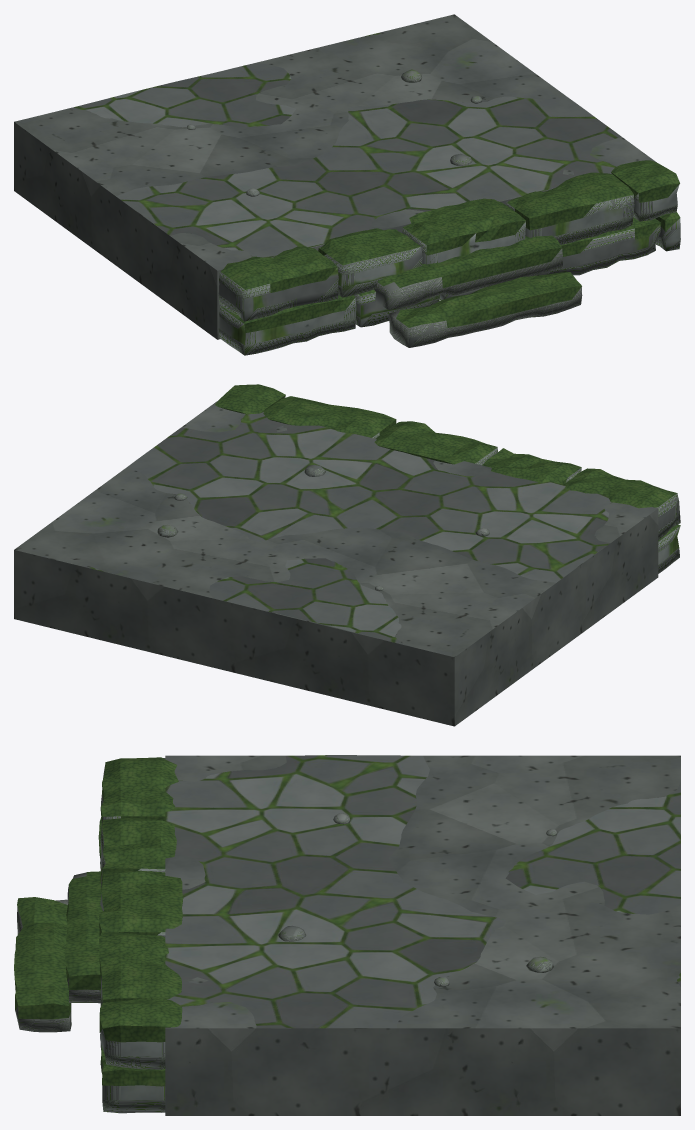
File: mod_floor_ledge_step.glb
3 renders of one model, top to bottom at view 1: azimuth 30°, elevation 25°; view 2: azimuth 150°, elevation 25°; view 3: azimuth 270°, elevation 25°, orthographic. The views are drawn at different scales.
Parts seen in each view (by area): view 1: mod_floor_ledge_step__stone_dark, mod_floor_ledge_step__stone_floor, mod_floor_ledge_step__moss, mod_floor_ledge_step__stone_wall, mod_floor_ledge_step__stone_block; view 2: mod_floor_ledge_step__stone_dark, mod_floor_ledge_step__stone_floor, mod_floor_ledge_step__moss, mod_floor_ledge_step__stone_wall, mod_floor_ledge_step__stone_block; view 3: mod_floor_ledge_step__stone_dark, mod_floor_ledge_step__stone_floor, mod_floor_ledge_step__moss, mod_floor_ledge_step__stone_wall, mod_floor_ledge_step__stone_block.
Part boxes in pixels (x1,y1,x2,y2): mod_floor_ledge_step__stone_dark: [14, 14, 656, 339]; mod_floor_ledge_step__stone_floor: [56, 30, 621, 257]; mod_floor_ledge_step__moss: [221, 160, 680, 332]; mod_floor_ledge_step__stone_wall: [218, 184, 680, 355]; mod_floor_ledge_step__stone_block: [187, 69, 582, 347]; mod_floor_ledge_step__stone_dark: [14, 401, 658, 726]; mod_floor_ledge_step__stone_floor: [81, 412, 612, 646]; mod_floor_ledge_step__moss: [215, 384, 680, 541]; mod_floor_ledge_step__stone_wall: [284, 396, 680, 573]; mod_floor_ledge_step__stone_block: [157, 464, 489, 590]; mod_floor_ledge_step__stone_dark: [165, 755, 680, 1115]; mod_floor_ledge_step__stone_floor: [165, 755, 680, 1028]; mod_floor_ledge_step__moss: [14, 757, 183, 1086]; mod_floor_ledge_step__stone_wall: [100, 758, 165, 1113]; mod_floor_ledge_step__stone_block: [15, 813, 557, 1032].
Size of the model in its own units: 4 by 0.6726 by 4.14.
Materials: 5 (5 with a texture image).
